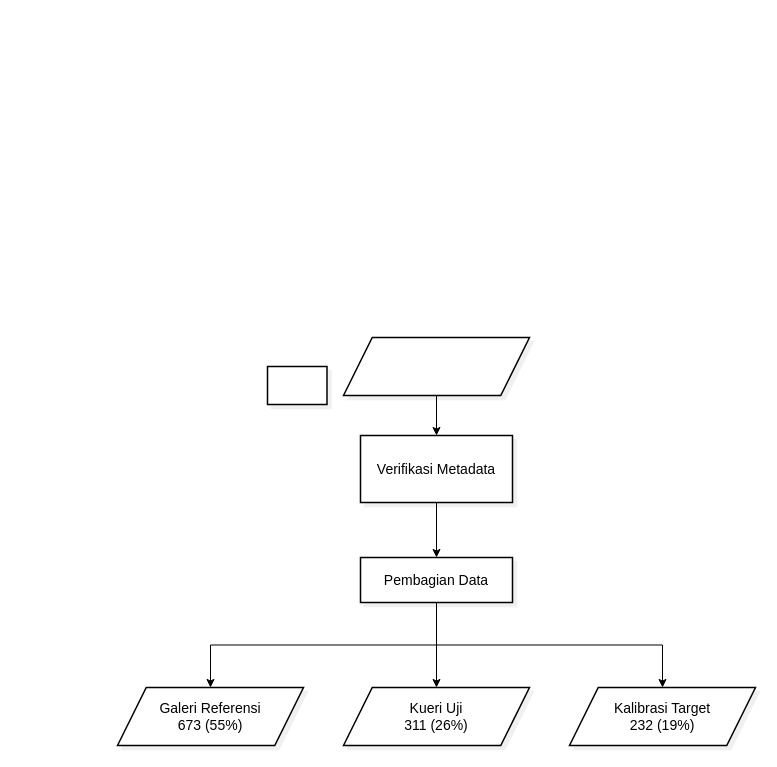
Some shapes in this 777 by 767 pixel diagram are drawn without their labels. The centre of each missing label's shape, as x and y in pixels:
"A.1" goes at (x=298, y=387).
"Rekaman Target 1.216" goes at (x=438, y=368).
